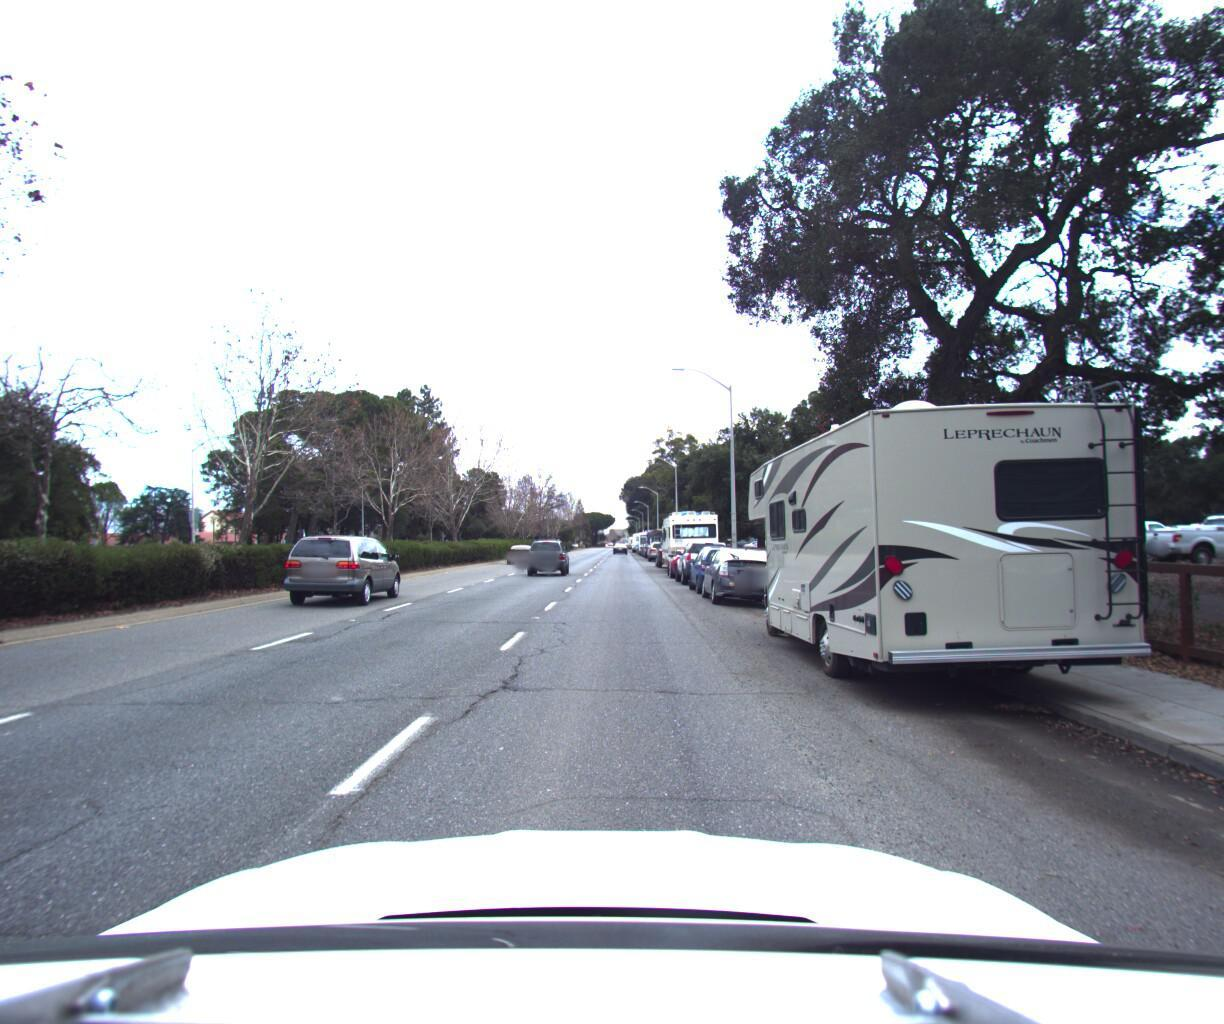car: (276, 530, 409, 607), (688, 537, 781, 603), (676, 536, 751, 589), (665, 530, 730, 578), (657, 539, 711, 575), (527, 533, 570, 571), (650, 532, 685, 562), (500, 536, 534, 557), (642, 533, 669, 555)
other_vehicle: (727, 362, 1152, 726), (652, 502, 720, 571), (640, 521, 673, 554)
